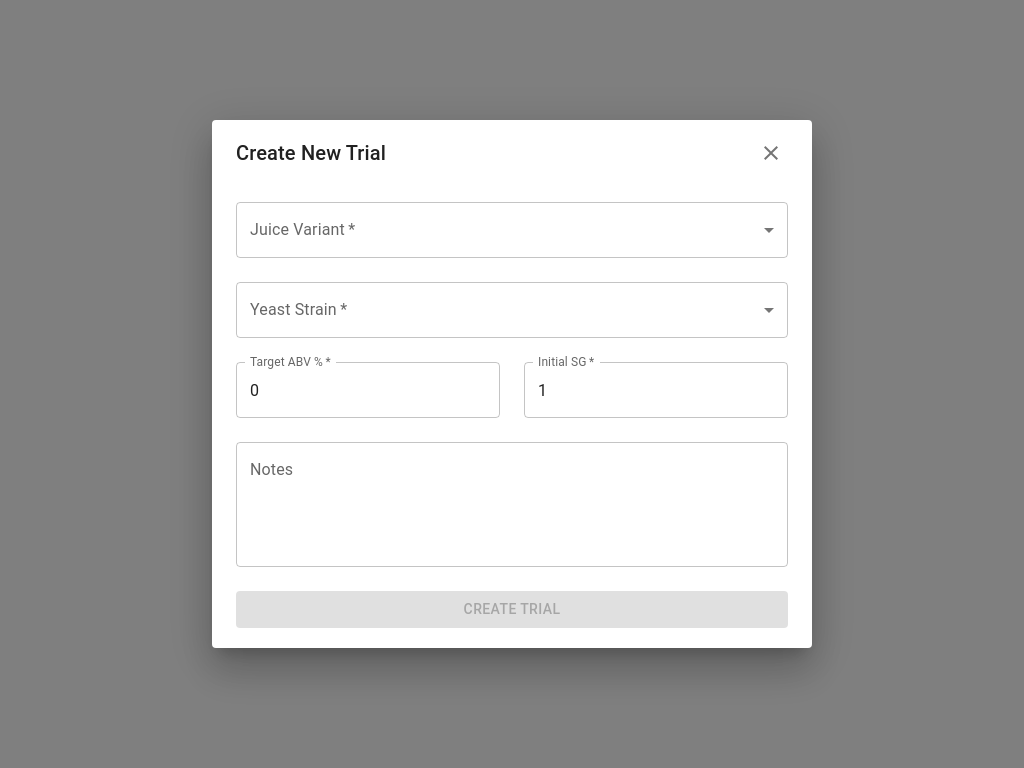
CreateTrialForm › disables submit button when required fields are empty
Expected: the button "Create Trial" is disabled, [236, 591, 788, 628]
// Fill in required fields
Click the dropdown named "juice variant" next to "Juice Variant": (512, 230) [236, 202, 788, 258]
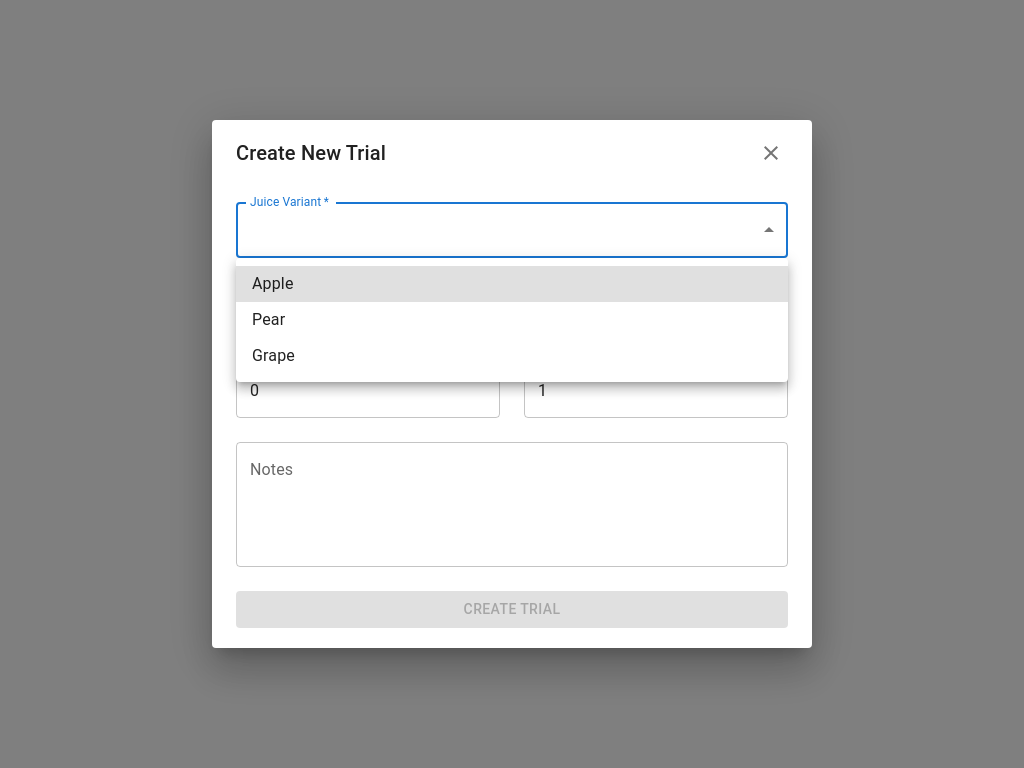
Click the option "Apple": (273, 284) [236, 266, 788, 302]
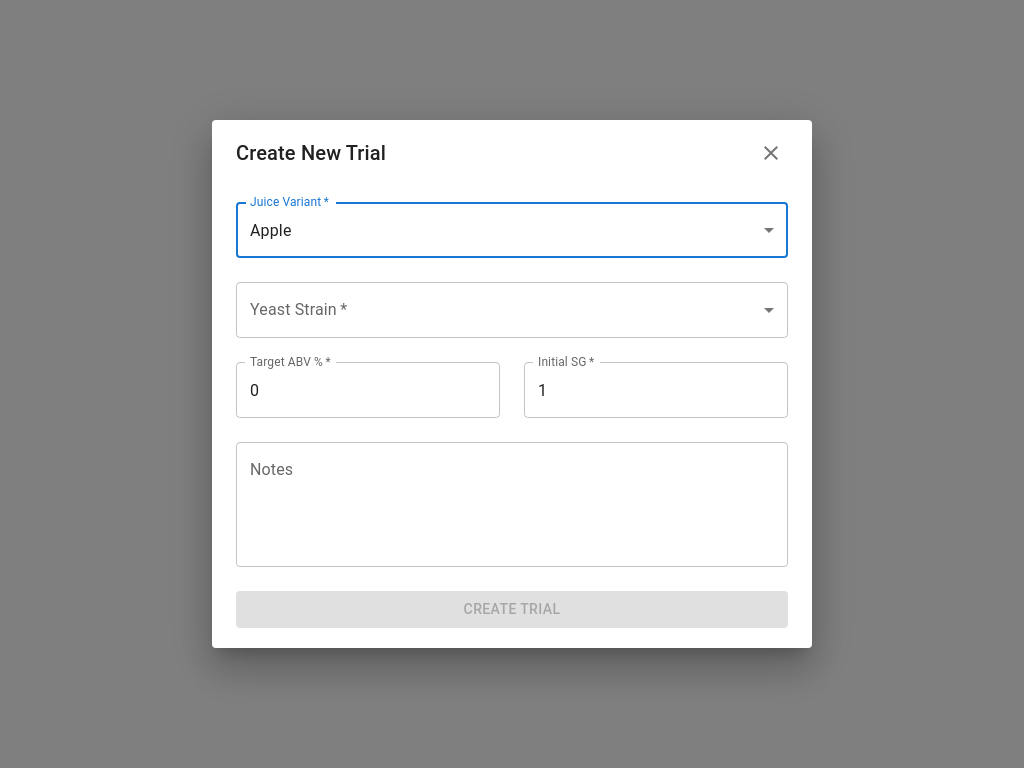
Expected: the button "Create Trial" is disabled, [236, 591, 788, 628]
Click the dropdown named "yeast strain": (512, 310) [236, 282, 788, 338]
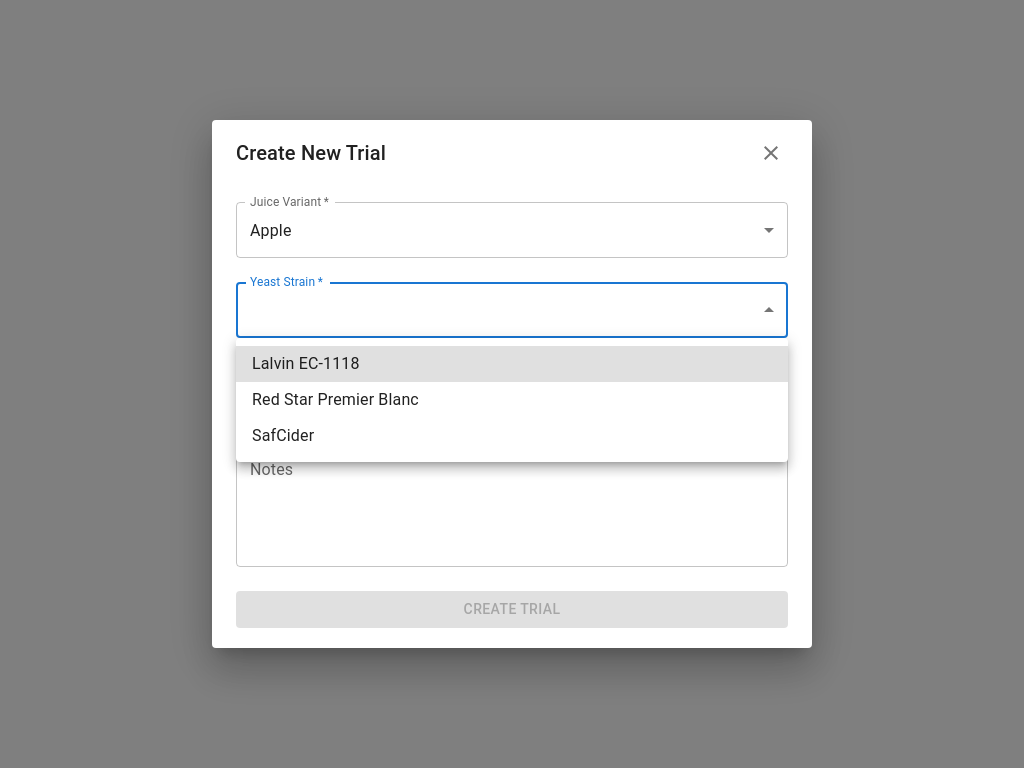
Click the option "Lalvin EC-1118": (306, 364) [236, 346, 788, 382]
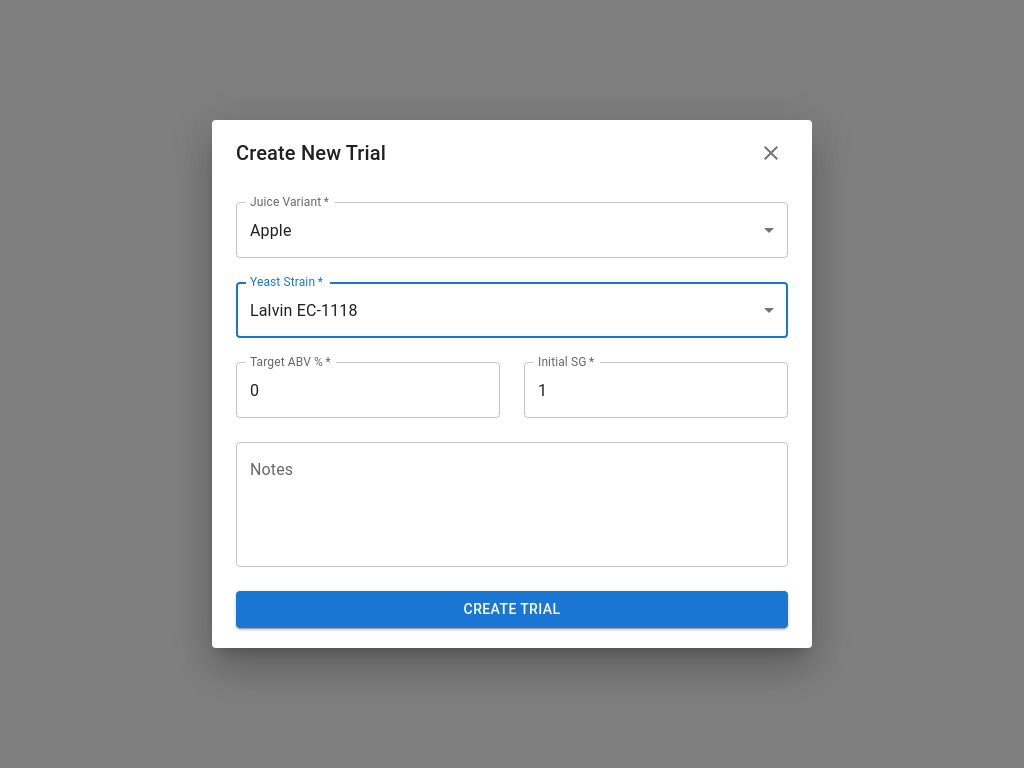
Expected: the button "Create Trial" is enabled, [236, 591, 788, 628]
